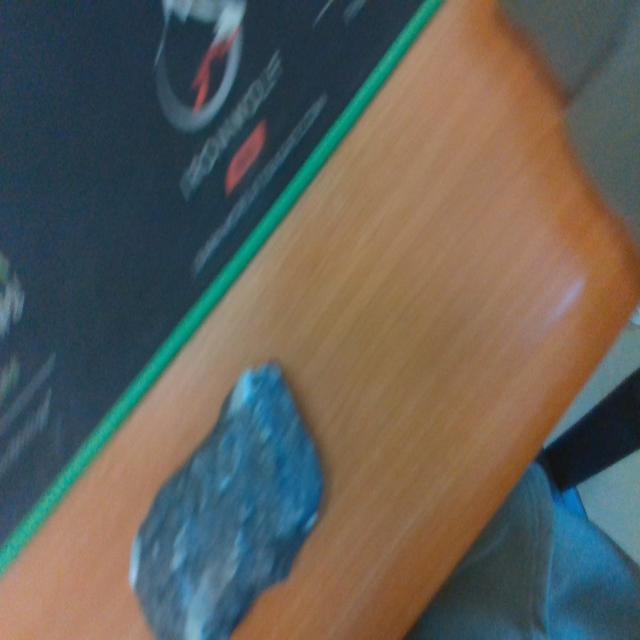stone: (126, 351, 327, 640)
